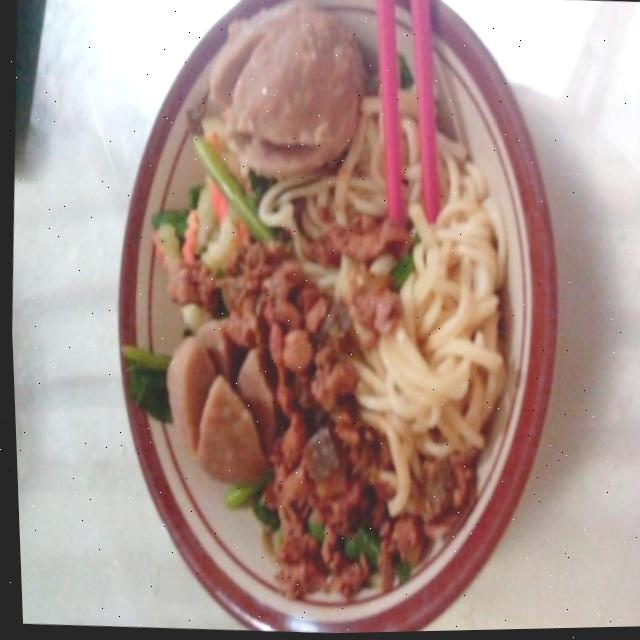面条主食: (59, 0, 591, 639)
